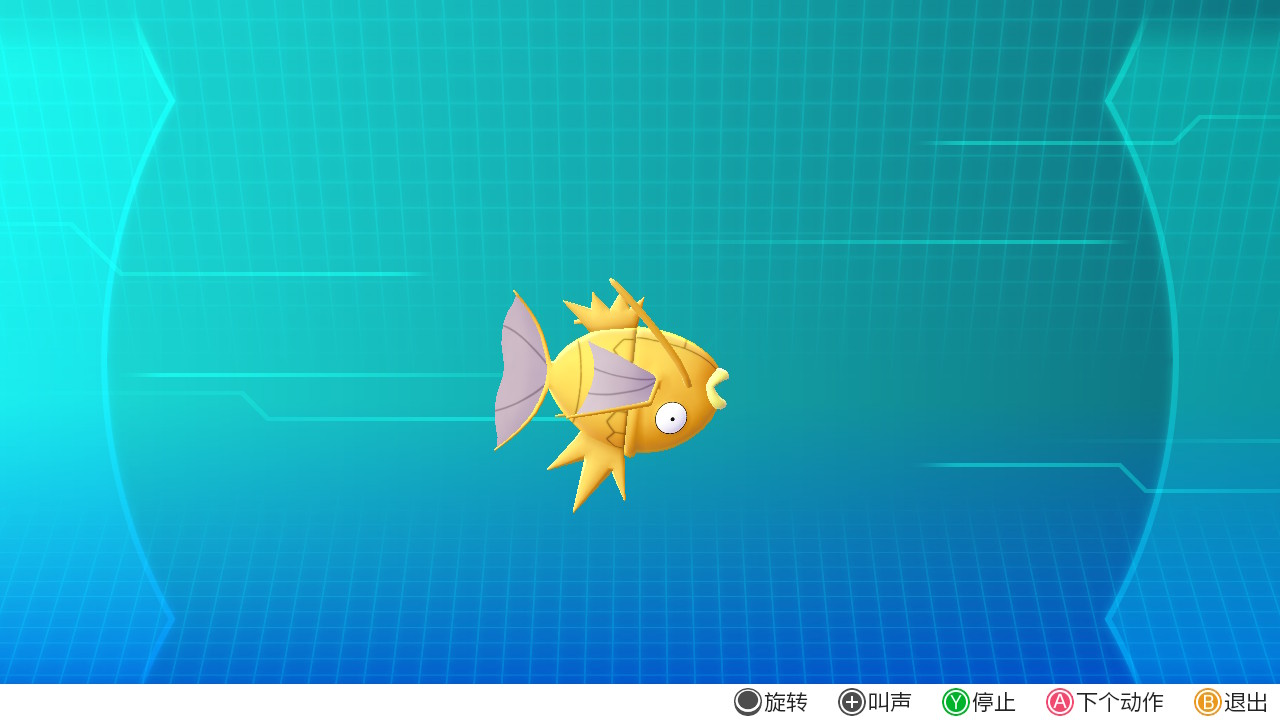Golden: (481, 264, 746, 525)
